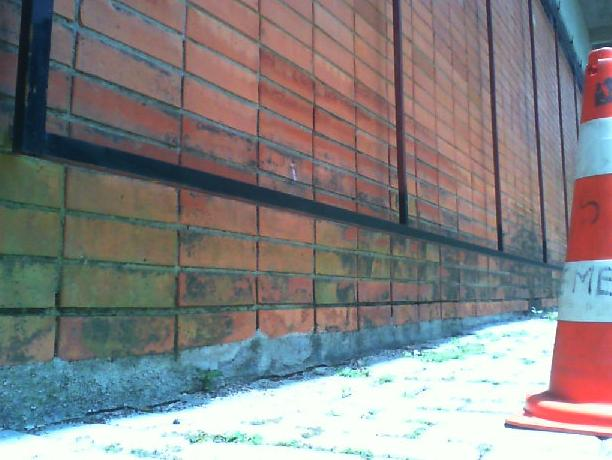0 cone: (505, 47, 612, 437)
